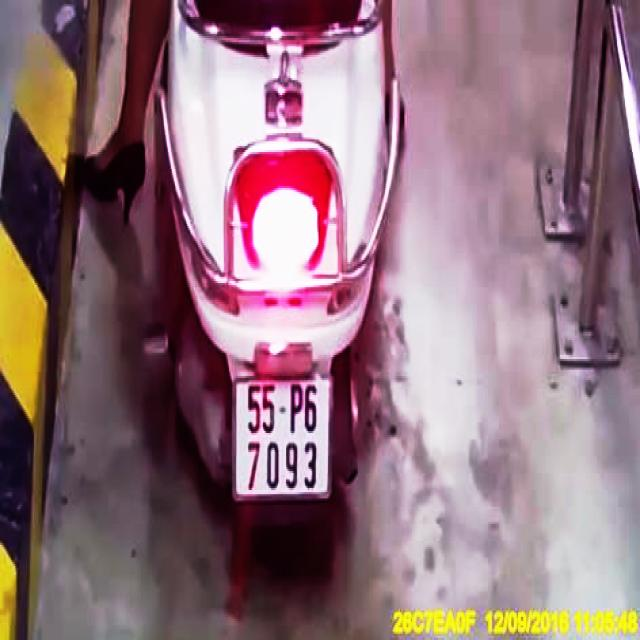license_plate: (236, 375, 331, 498)
